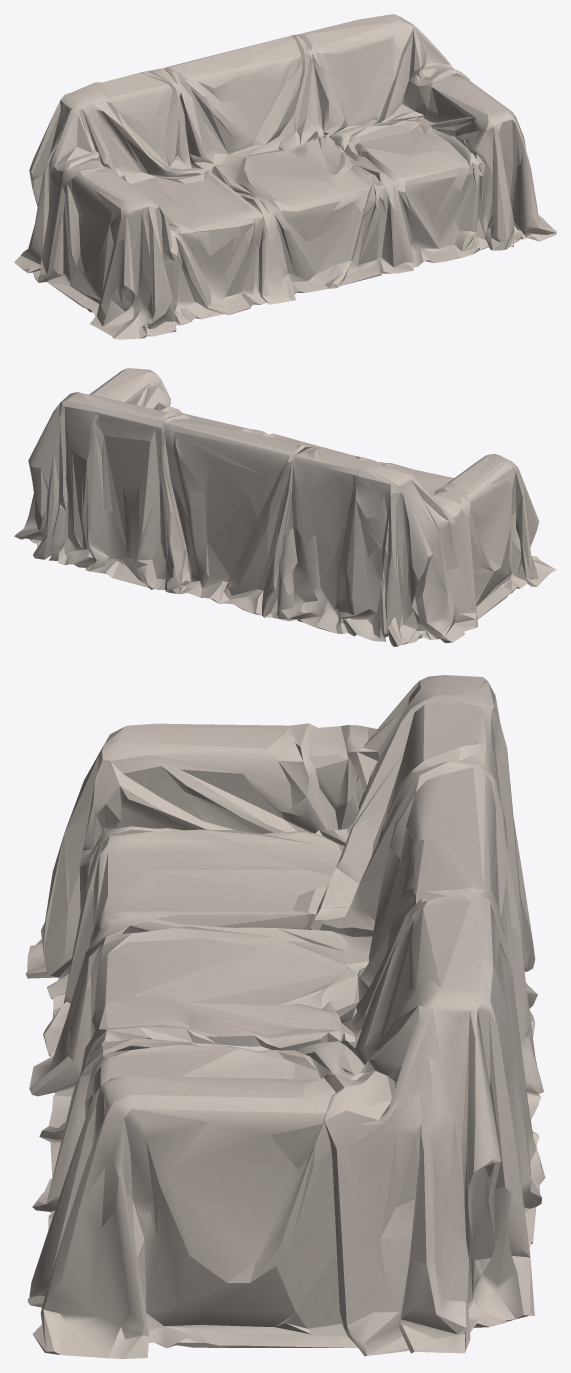
Rendered from sheetSofa.glb.
3 renders of one model, top to bottom at view 1: azimuth 30°, elevation 25°; view 2: azimuth 150°, elevation 25°; view 3: azimuth 270°, elevation 25°, orthographic. The views are drawn at different scales.
Bounding box in the file's own units: 1.9 × 0.6452 × 0.9561.
1 material, 1 textured.
